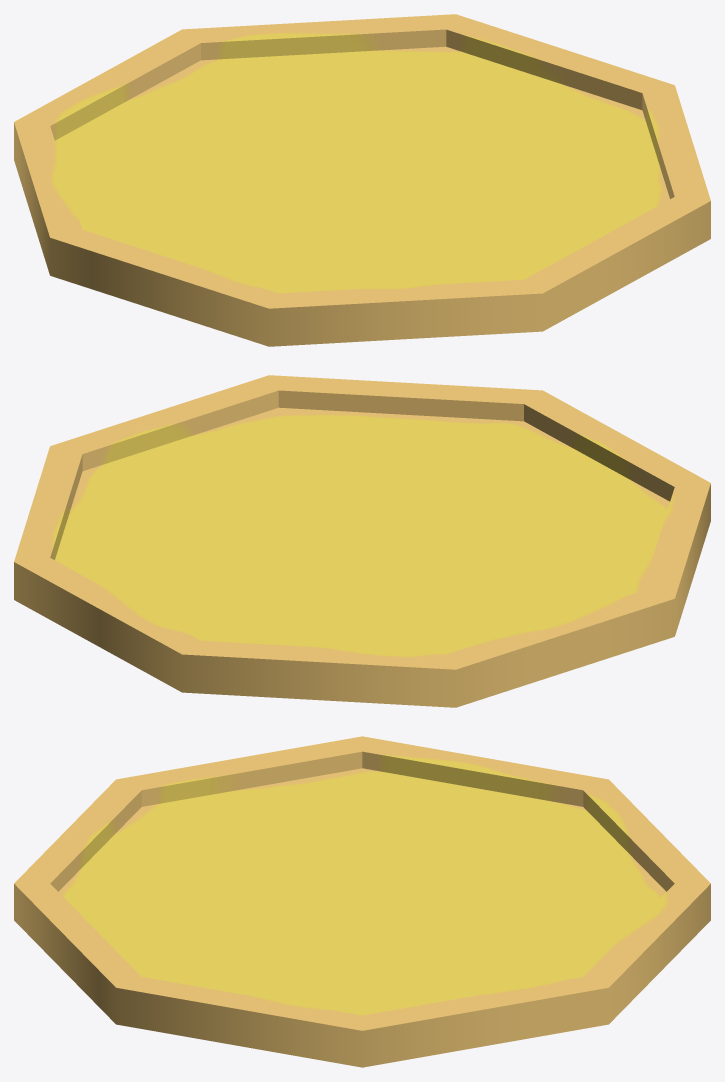
The model's file is Unwrapped_Pizza.fbx.
3 renders of one model, top to bottom at view 1: azimuth 30°, elevation 25°; view 2: azimuth 150°, elevation 25°; view 3: azimuth 270°, elevation 25°, orthographic. The views are drawn at different scales.
Visible parts, largest first — view 1: Cylinder014; view 2: Cylinder014; view 3: Cylinder014.
Boxes of the visible parts, <box> form: Cylinder014: <box>14,14,710,346</box>; Cylinder014: <box>14,375,710,707</box>; Cylinder014: <box>14,736,710,1067</box>.
Bounding box in the file's own units: 65.76 × 3.83 × 65.76.
